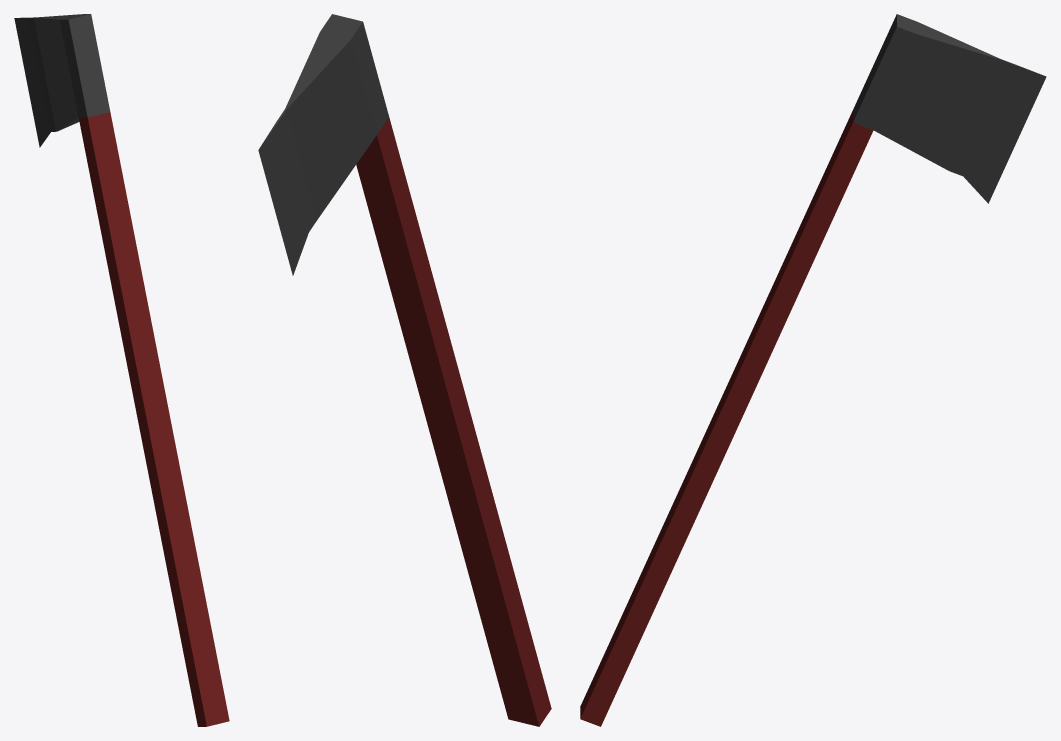
File: Axe (2).fbx
3 renders of one model, left to right at view 1: azimuth 30°, elevation 25°; view 2: azimuth 150°, elevation 25°; view 3: azimuth 270°, elevation 25°, orthographic. The views are drawn at different scales.
Parts seen in each view (by area): view 1: Cube; view 2: Cube; view 3: Cube.
Boxes of the visible parts, x1,y1,x2,y2 form: Cube: (14,14,229,726); Cube: (258,14,551,726); Cube: (580,14,1046,726).
Bounding box in the file's own units: 6.66 × 171 × 103.
